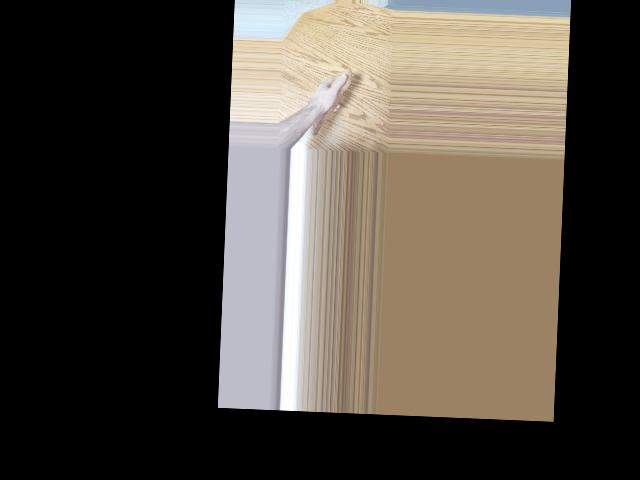sweet_potato: (308, 66, 353, 148)
